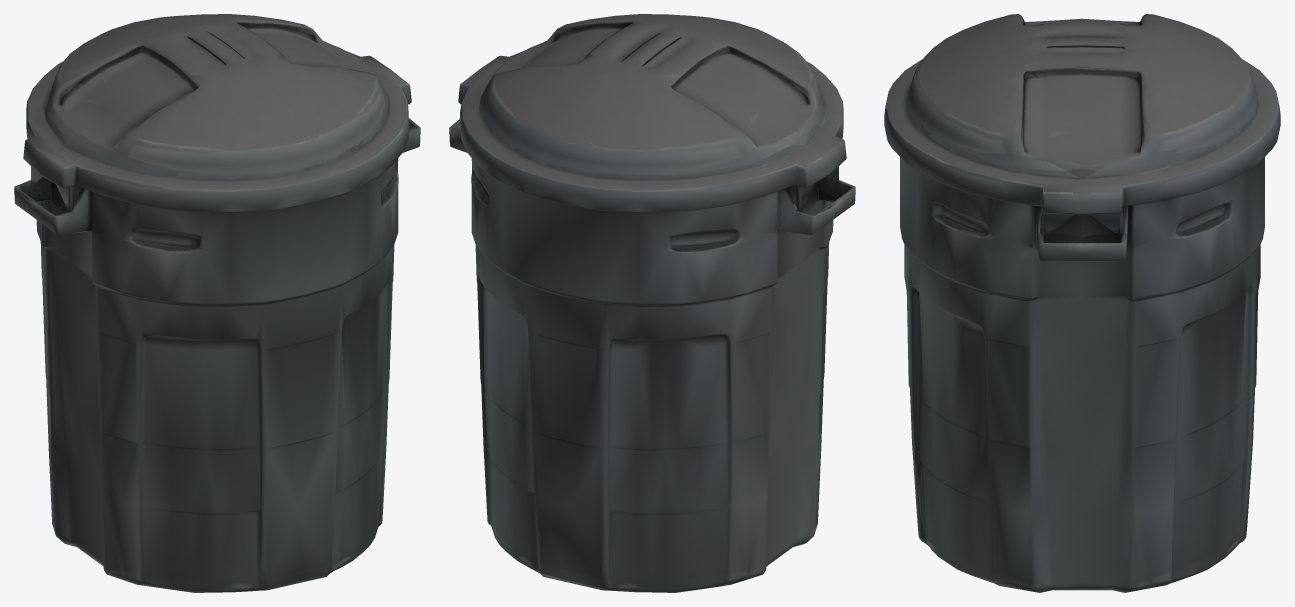
File: trash_container_0125200700_texture.glb
3 views of the same model, side by side, from view 1: azimuth 30°, elevation 25°; view 2: azimuth 150°, elevation 25°; view 3: azimuth 270°, elevation 25° (orthographic).
Visible parts, largest first — view 1: Mesh_0; view 2: Mesh_0; view 3: Mesh_0.
Boxes of the visible parts, left/top/right/bottom form: Mesh_0: left=14, top=14, right=420, bottom=592; Mesh_0: left=449, top=14, right=855, bottom=592; Mesh_0: left=884, top=14, right=1280, bottom=592.
Bounding box in the file's own units: 0.6149 × 0.762 × 0.5617.
1 material, 1 textured.
